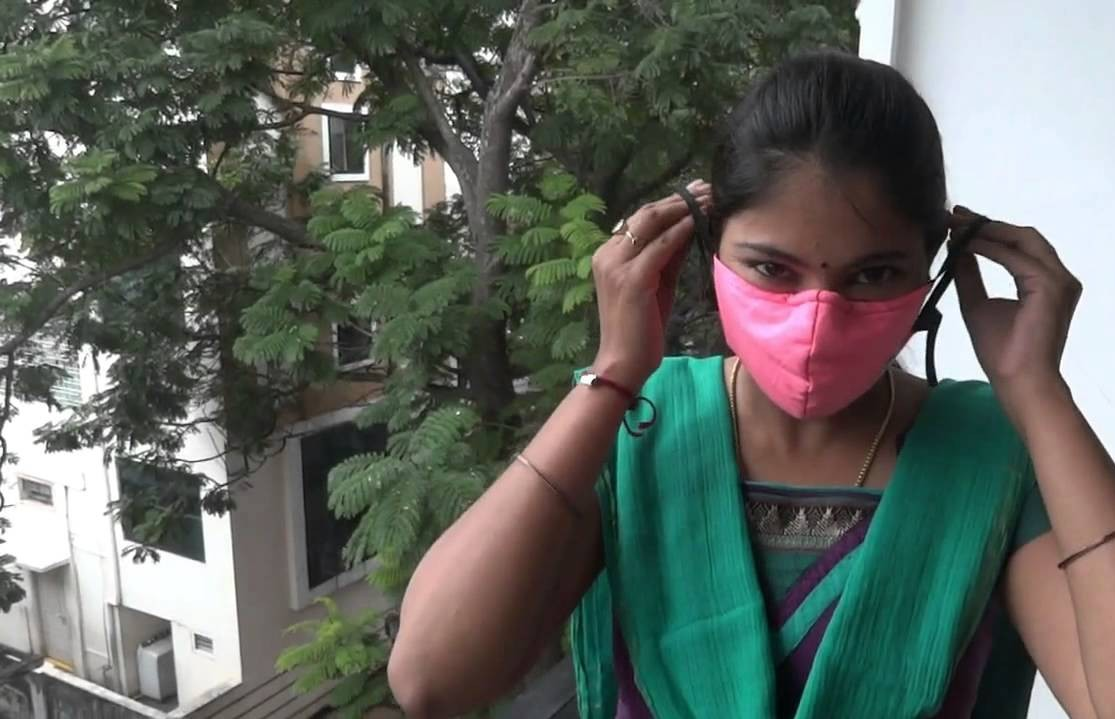with_mask: (704, 159, 947, 418)
